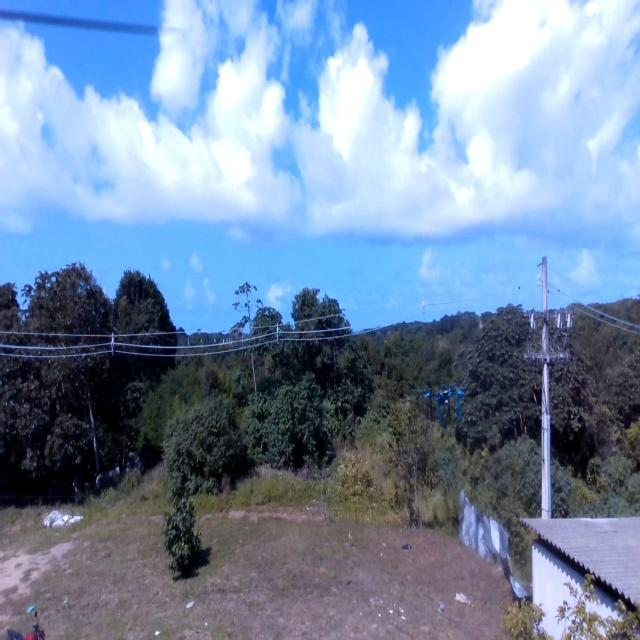-uav-: (410, 366, 477, 434)
